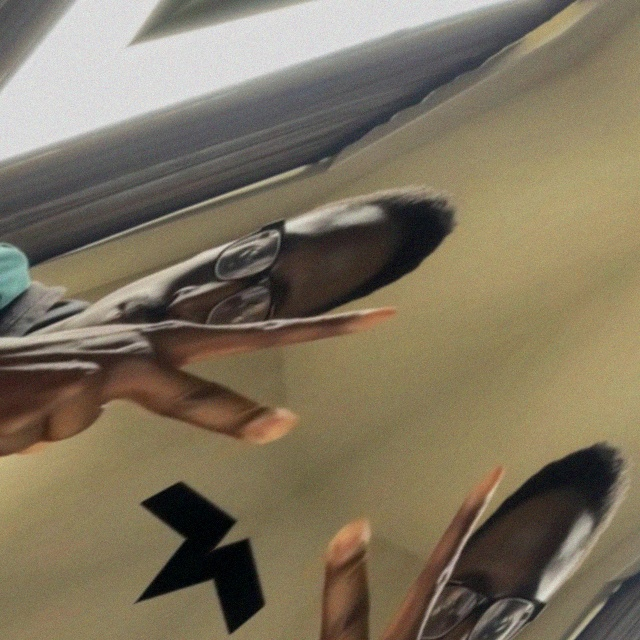Scissors: (0, 0, 200, 209)
